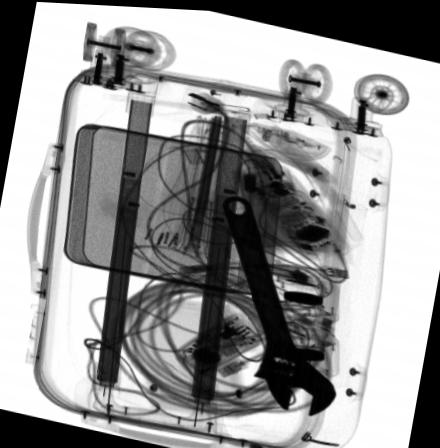Wrench: (222, 192, 336, 411)
